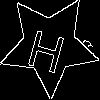H: (24, 20, 70, 74)
